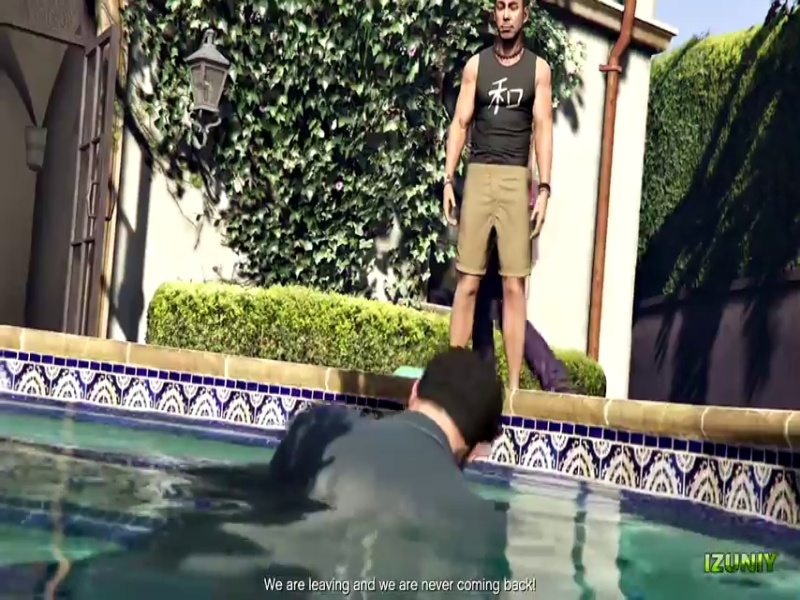human: (438, 6, 563, 388)
